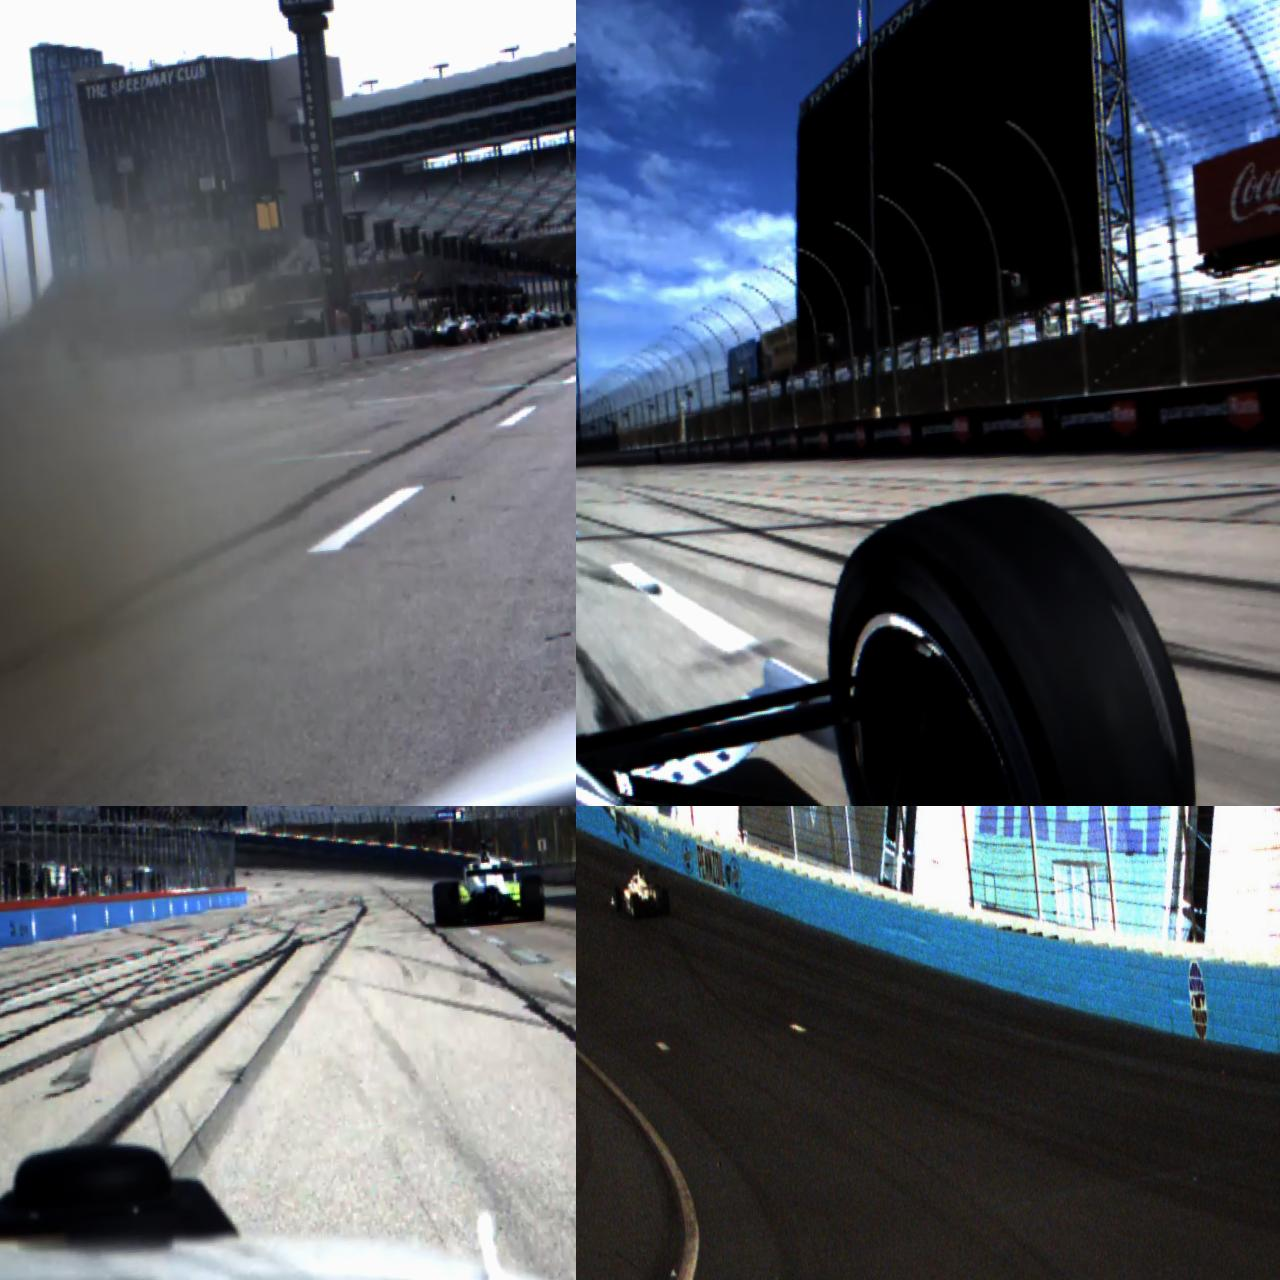AV: (428, 833, 547, 931), (607, 860, 670, 922)
Wheel: (821, 478, 1214, 806), (433, 881, 463, 925), (520, 874, 546, 921), (629, 892, 642, 920), (447, 326, 462, 346), (661, 887, 670, 914), (414, 329, 427, 348), (613, 886, 622, 912), (477, 324, 489, 343), (533, 315, 543, 331), (551, 314, 561, 327), (564, 313, 573, 327)
